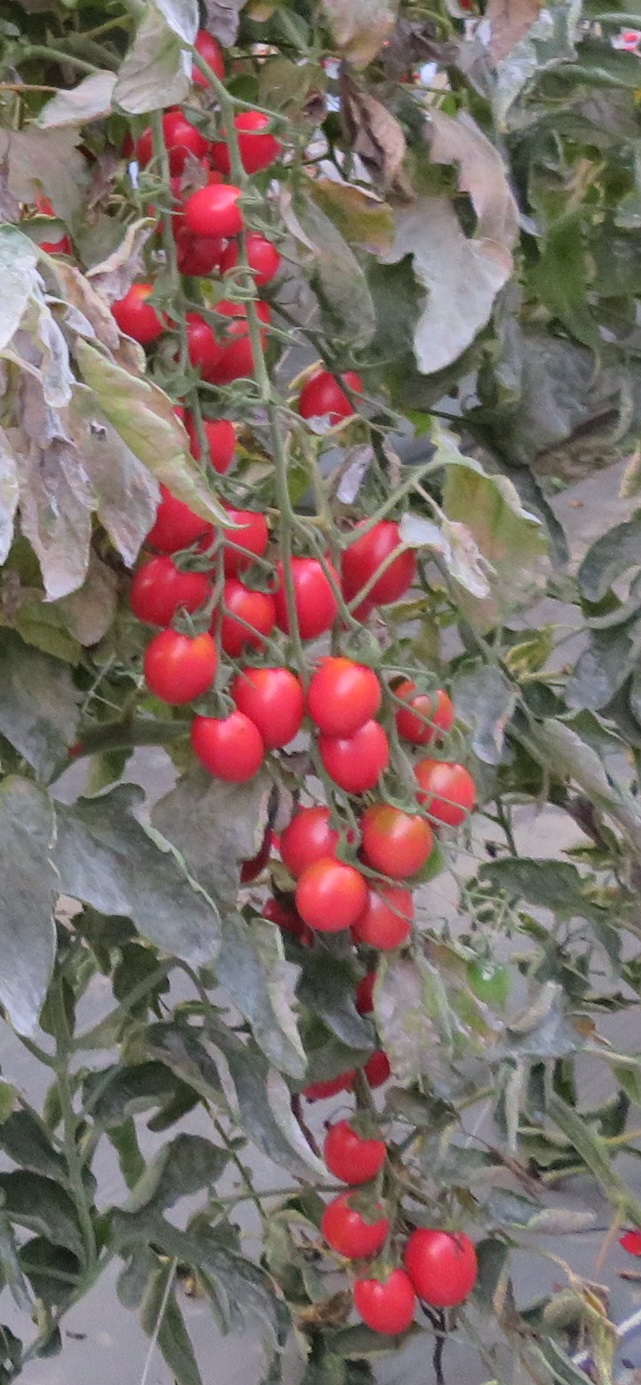red: (305, 644, 388, 732), (182, 707, 273, 786), (125, 554, 218, 631), (139, 617, 216, 706), (268, 554, 343, 645), (342, 518, 418, 606), (357, 795, 429, 881), (270, 804, 356, 876), (405, 1227, 478, 1307), (206, 572, 271, 659), (311, 722, 387, 794), (234, 666, 302, 745), (209, 113, 288, 181), (296, 860, 368, 933), (350, 1262, 418, 1339), (130, 107, 210, 169), (305, 358, 368, 435), (322, 1192, 393, 1260), (416, 748, 473, 823), (180, 406, 239, 477), (323, 1120, 386, 1186), (208, 507, 272, 567), (187, 182, 246, 240), (175, 314, 225, 382), (118, 284, 175, 340), (402, 684, 457, 741)
